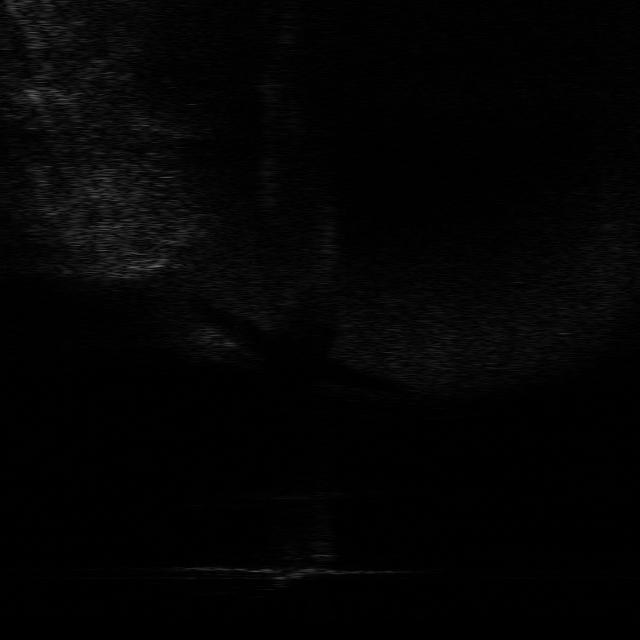plane: (180, 544, 410, 588)
